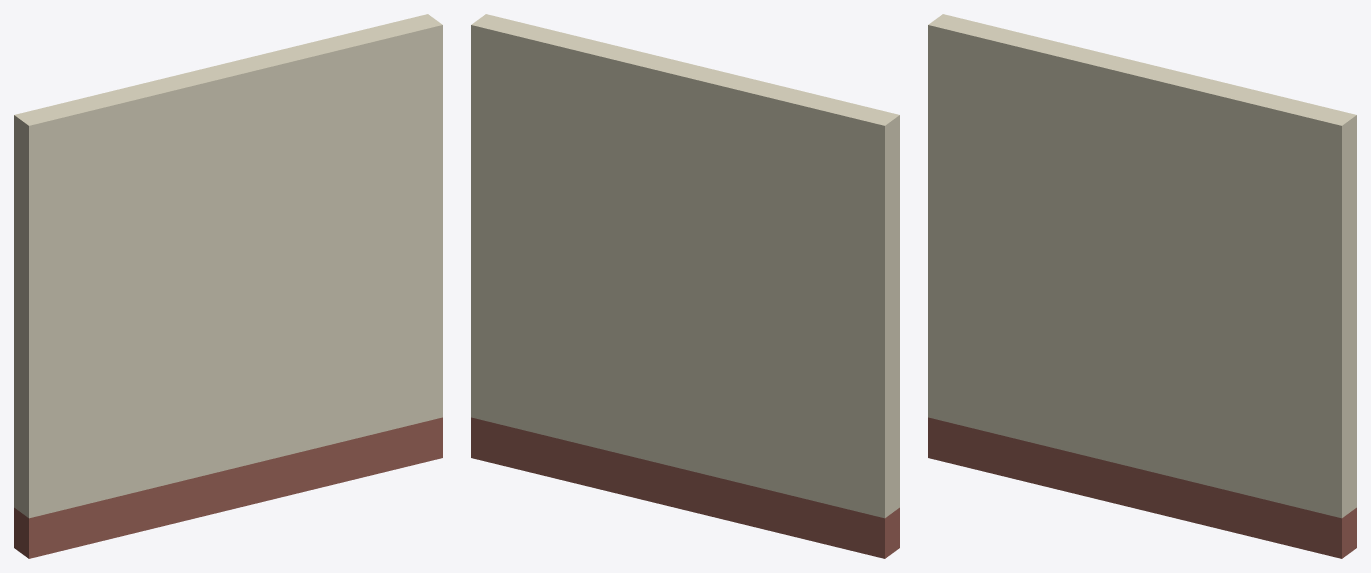
Rendered from Shops-62 1.obj.
The picture shows the model from 3 angles, left to right: view 1: azimuth 30°, elevation 25°; view 2: azimuth 150°, elevation 25°; view 3: azimuth 330°, elevation 25°; orthographic projection.
Bounding box in the file's own units: 3.2 × 3.2 × 0.2.
1 material, 1 textured.
